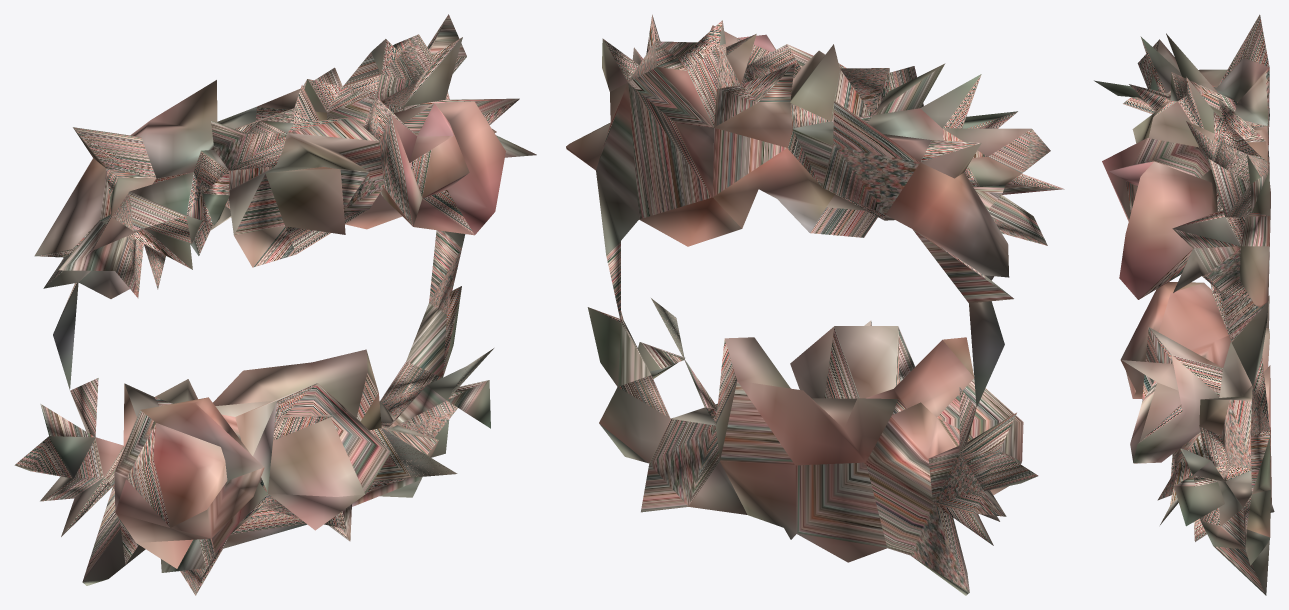
3 views of the same model, side by side, from view 1: azimuth 30°, elevation 25°; view 2: azimuth 150°, elevation 25°; view 3: azimuth 270°, elevation 25° (orthographic). The views are drawn at different scales.
Visible parts, largest first — view 1: Rose-Frame-9-34; view 2: Rose-Frame-9-34; view 3: Rose-Frame-9-34.
Part boxes in pixels (bbox=[...]): Rose-Frame-9-34: bbox=[14, 14, 536, 595]; Rose-Frame-9-34: bbox=[566, 14, 1064, 595]; Rose-Frame-9-34: bbox=[1094, 14, 1274, 595].
Size of the model in its own units: 0.233 by 0.2318 by 0.0817.
Materials: 1 (1 with a texture image).
